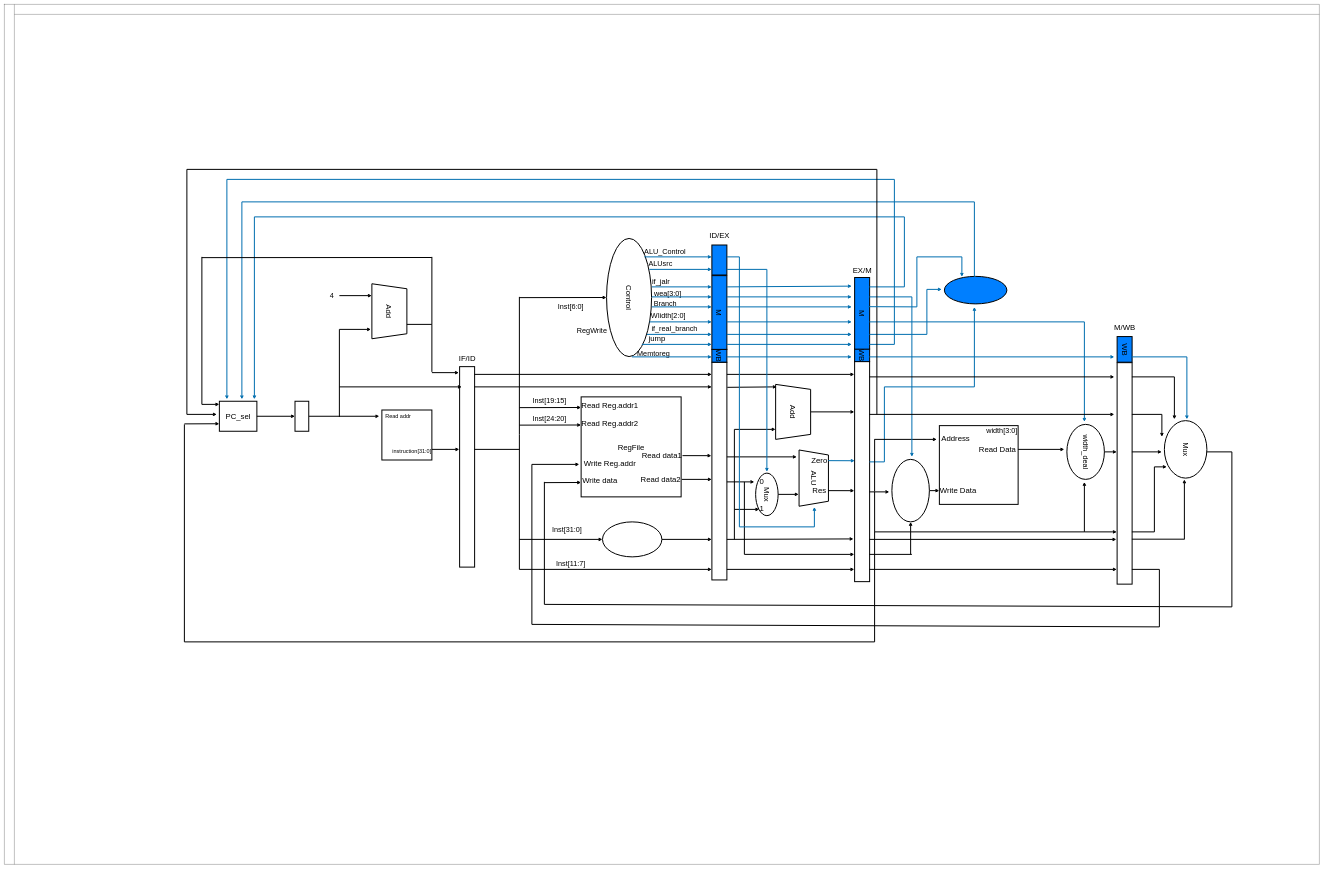
The diagram is 1324 pixels wide and 869 high, and some of its shapes have lost their labels. The shapes that lost their labels are listed below. From the top down, each one's box as (x1, y1, x2, y2) in pixels, then its label:
(711, 244, 727, 275): EX
(944, 276, 1007, 304): Branch_ctrl
(294, 401, 309, 432): PC
(381, 409, 432, 460): Instruction memory
(939, 425, 1018, 505): Memory
(891, 459, 930, 522): store_deal
(602, 521, 662, 557): Imm_Gen
